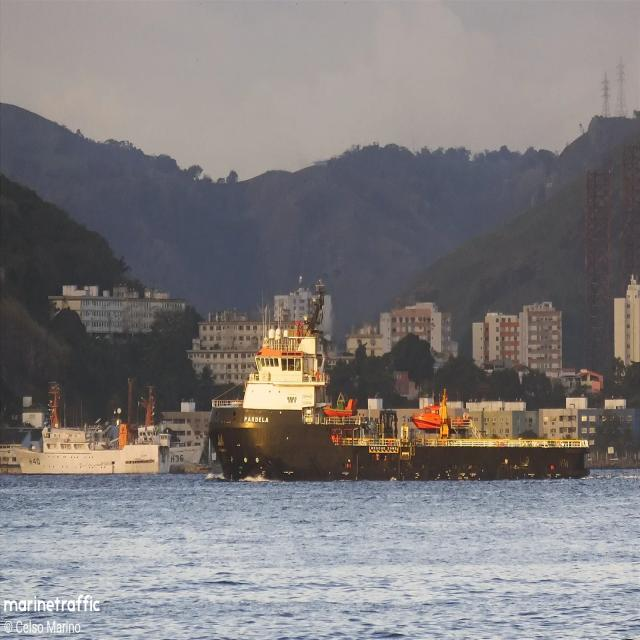Military: (17, 428, 170, 474)
Offshore: (210, 283, 588, 480)
